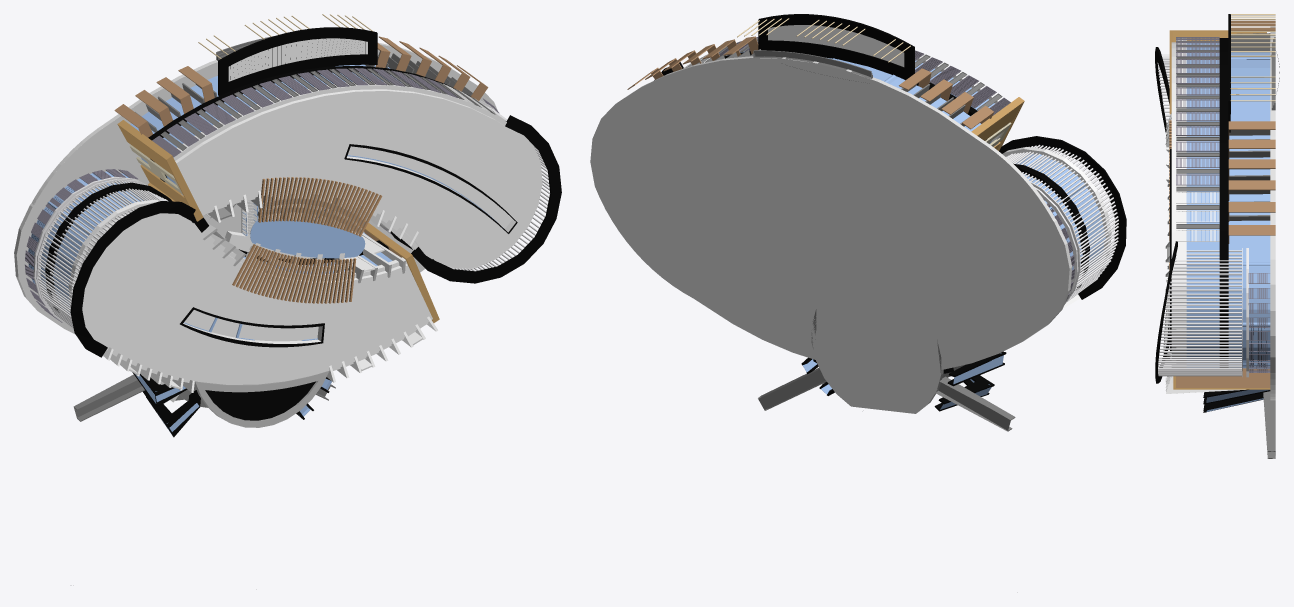
The model's file is optimizeModel_28.glb.
3 renders of one model, left to right at view 1: azimuth 30°, elevation 25°; view 2: azimuth 150°, elevation 25°; view 3: azimuth 270°, elevation 25°, orthographic.
Visible parts, largest first — view 1: Model, Floor; view 2: Model; view 3: Model.
Part boxes in pixels (x1,y1,x2,y2): Model: [14, 14, 561, 437]; Floor: [16, 44, 497, 402]; Model: [590, 14, 1126, 431]; Model: [1155, 14, 1279, 458].
Size of the model in its own units: 63.78 by 70.54 by 14.21.
